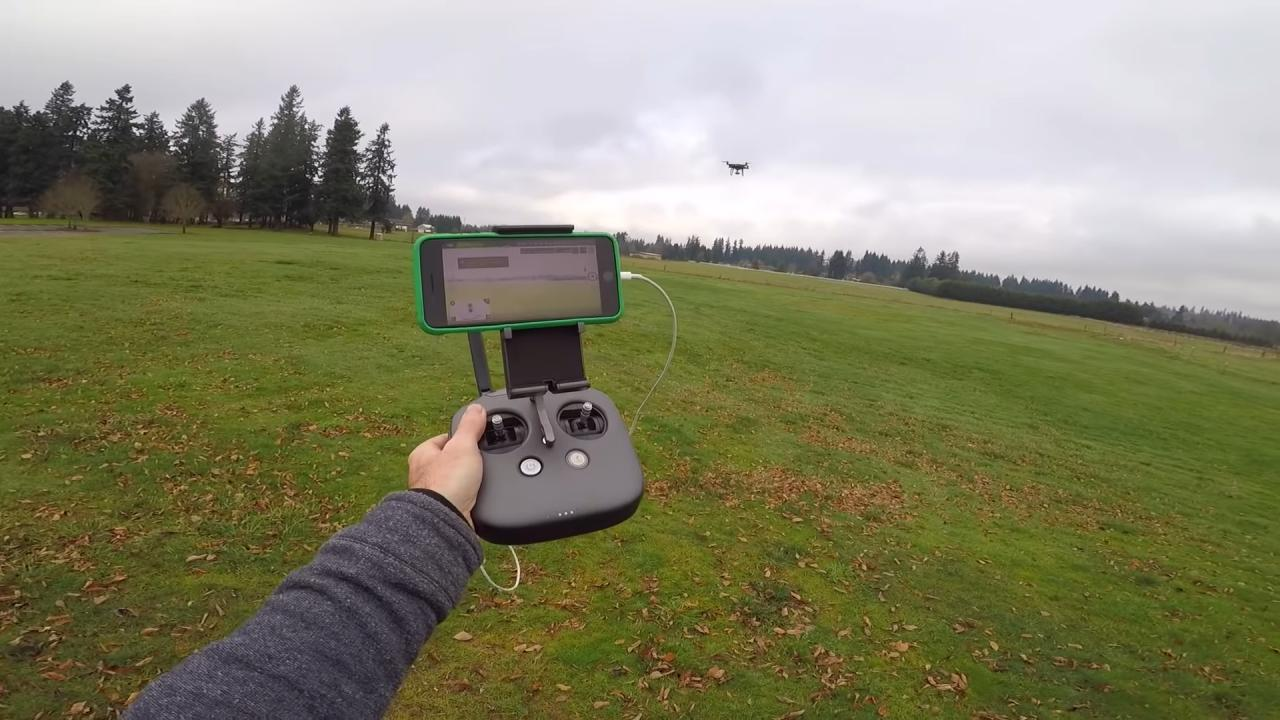Drone: (710, 151, 764, 187)
